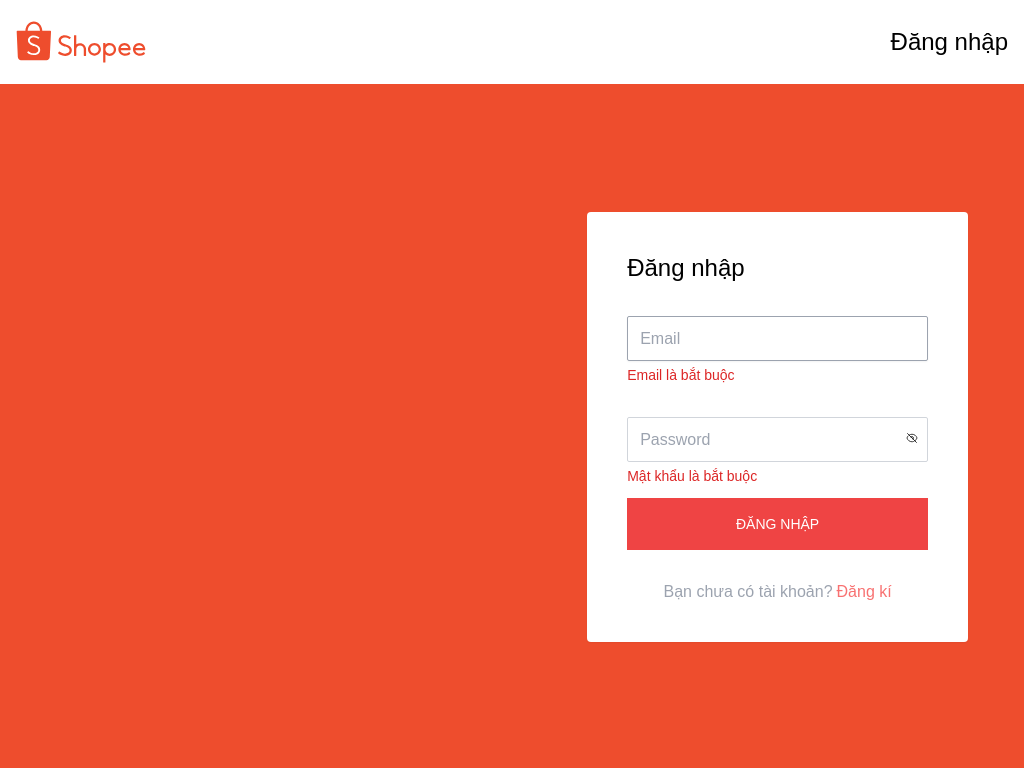
Test: Login › Hiển thị lỗi không đúng định dạng
Type "test" into the field with placeholder "Email" at (778, 339), box [627, 316, 928, 361]
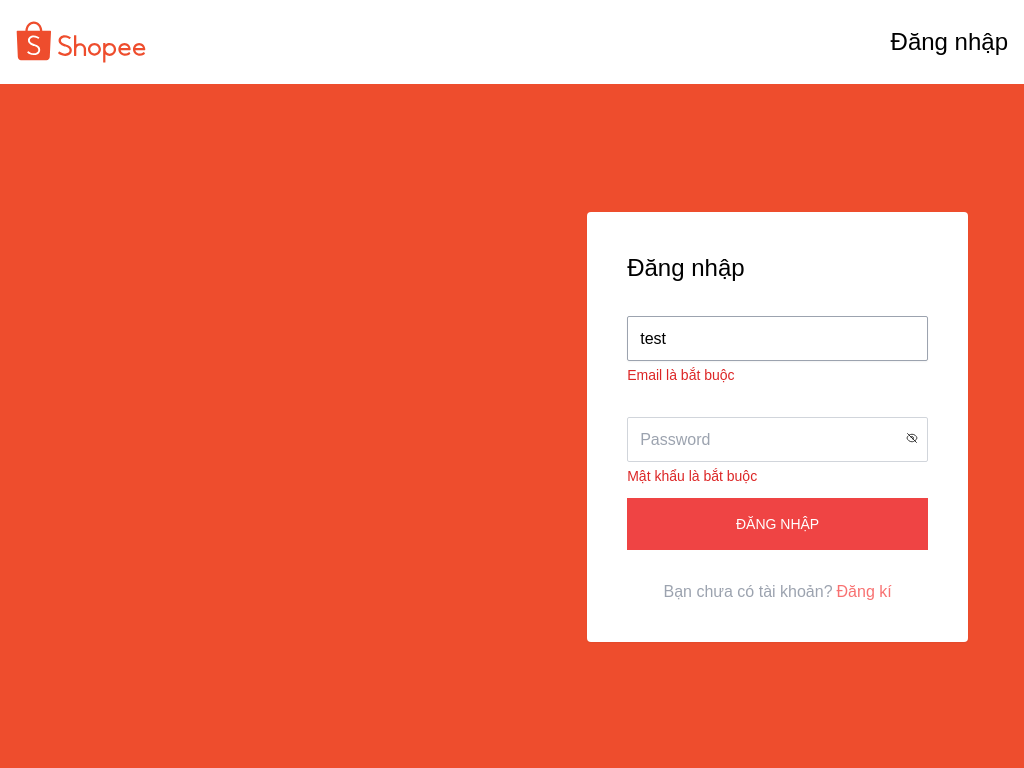
Type "123" into the password field with placeholder "Password" at (778, 440), box [627, 417, 928, 462]
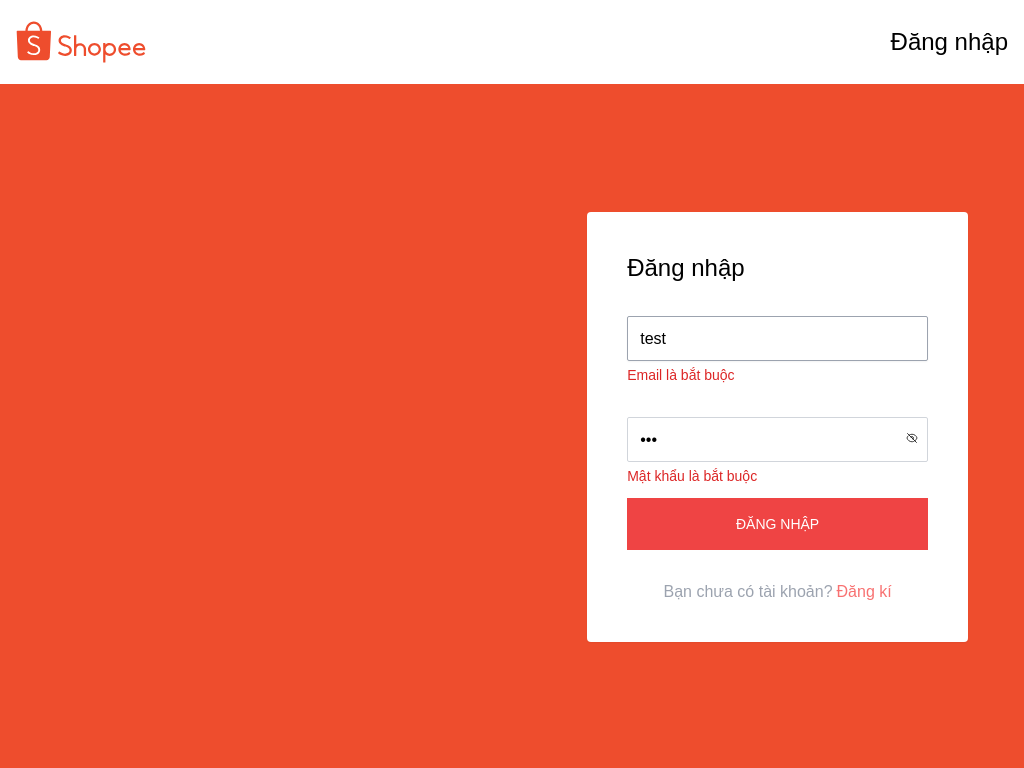
Click the submit button at (778, 524), box [627, 498, 928, 550]
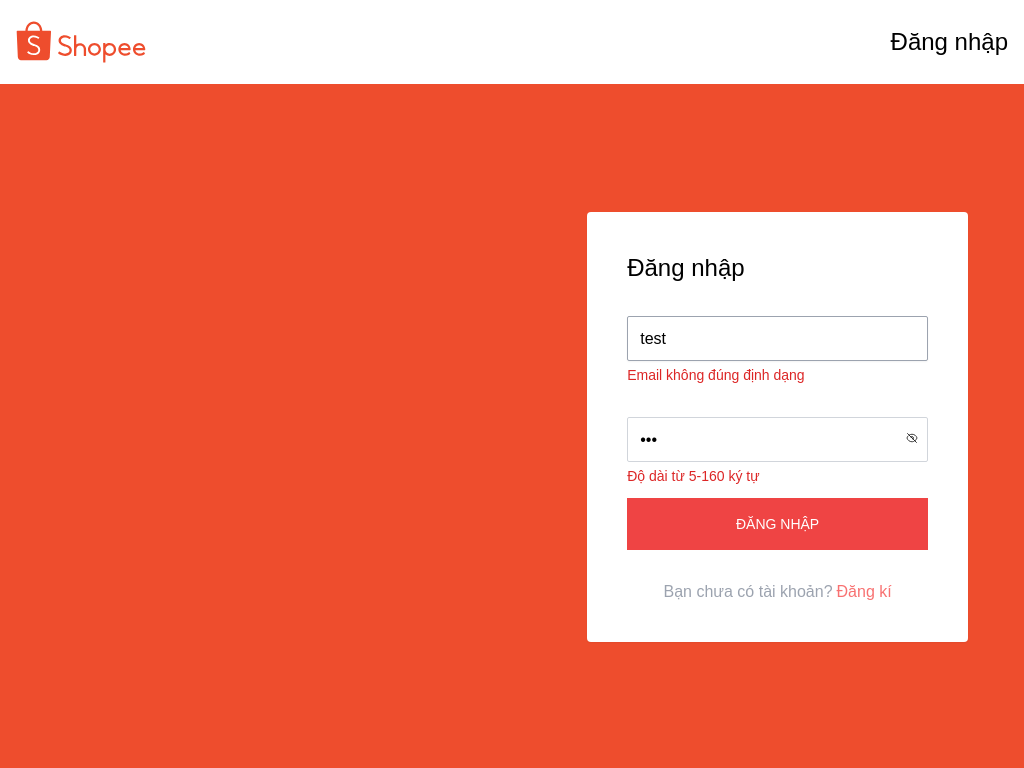
Now the text "Email không đúng định dạng" is shown, box [627, 367, 805, 383]
Now the text "Độ dài từ 5-160 ký tự" is shown, box [627, 468, 760, 484]
